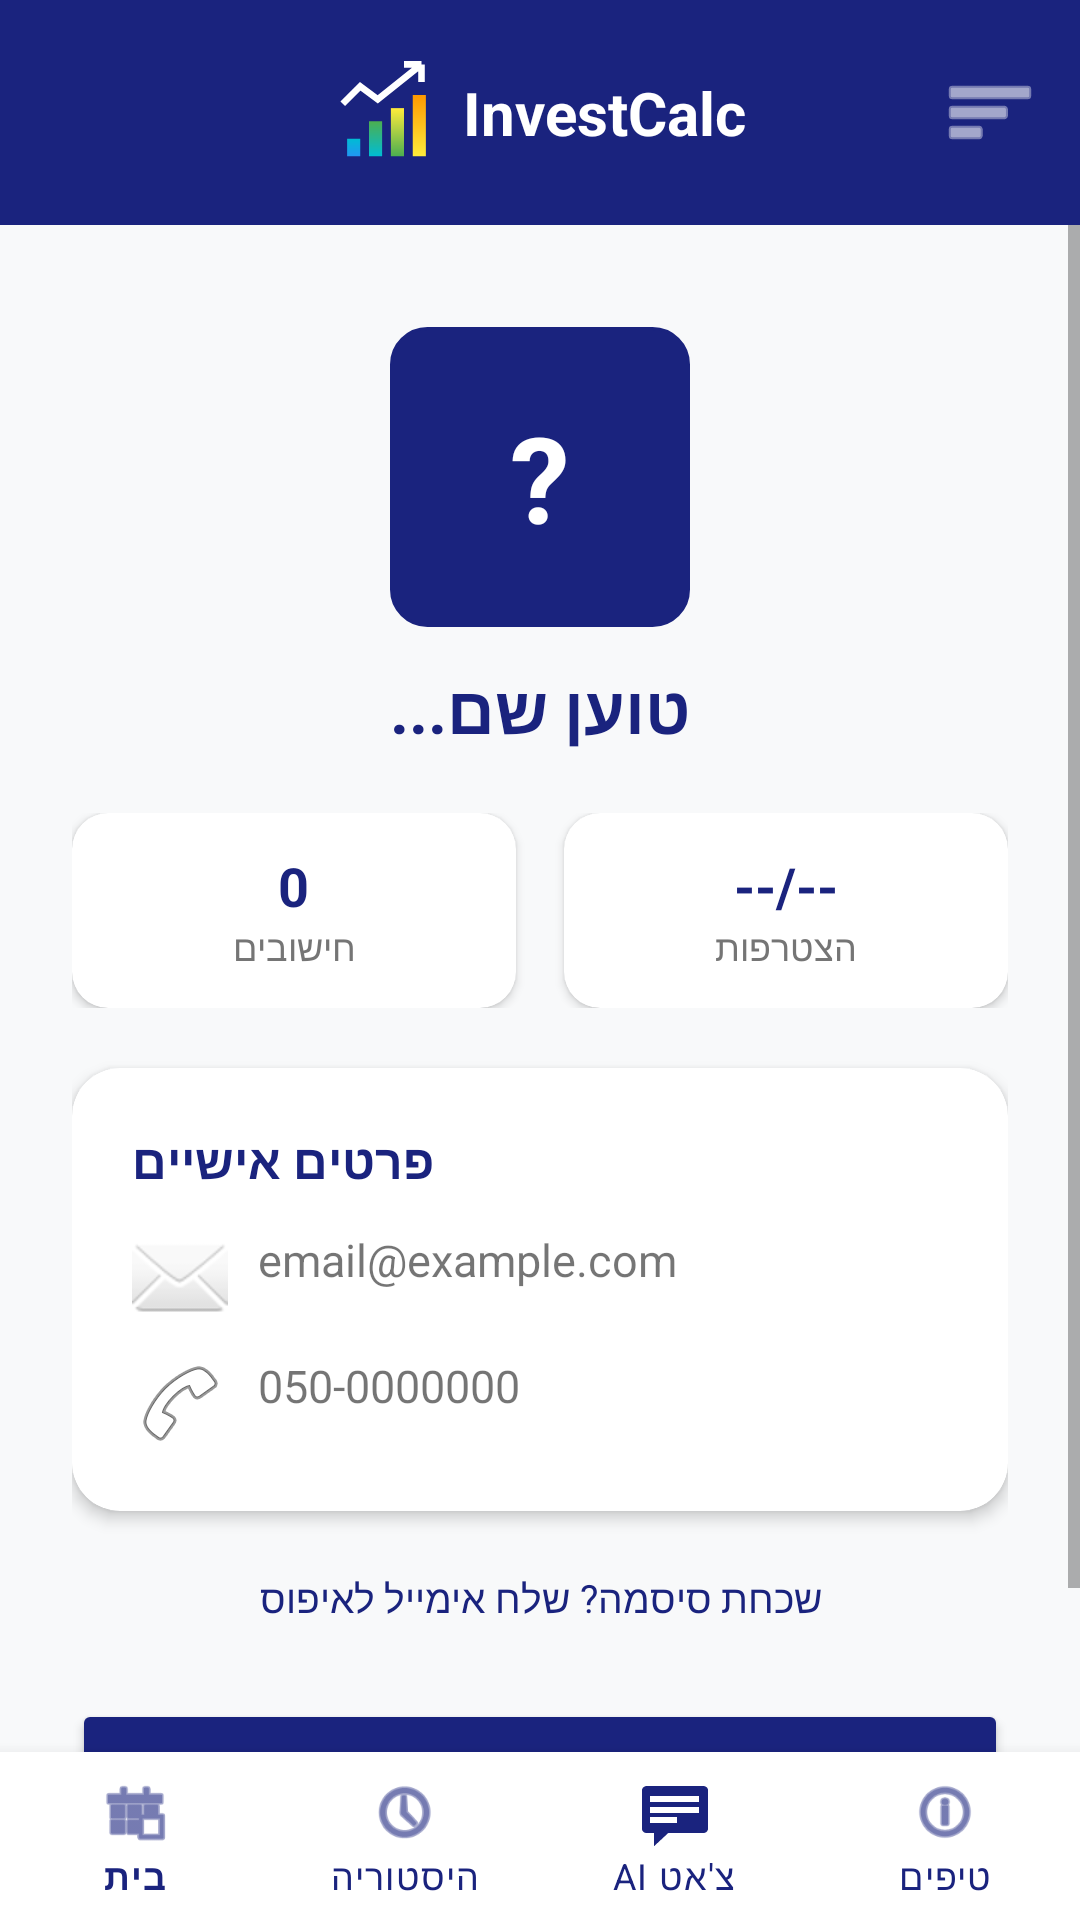

Screen size 1080w x 1920h. Icon name, then its center in pixels as (x=x, y=y):
growth graph: (x=383, y=109)
sort by size: (x=990, y=112)
